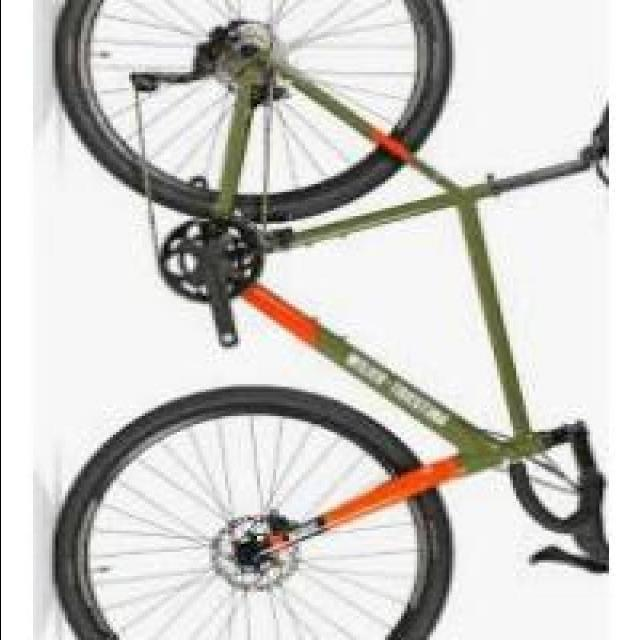bicycle: (49, 1, 603, 640)
